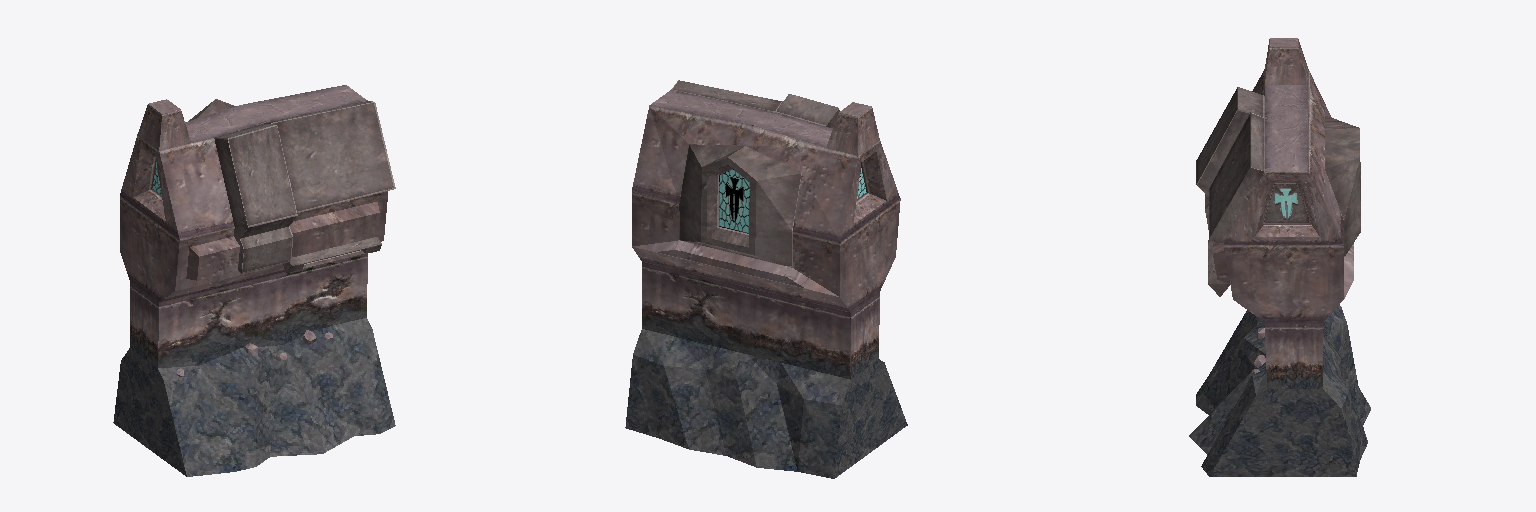
The picture shows the model from 3 angles: view 1: azimuth 30°, elevation 25°; view 2: azimuth 150°, elevation 25°; view 3: azimuth 270°, elevation 25°; orthographic projection.
Parts seen in each view (by area): view 1: Node 0; view 2: Node 0; view 3: Node 0.
Boxes of the visible parts, box(x1,y1,x2,y2) form: Node 0: box(113, 85, 395, 476); Node 0: box(625, 80, 907, 478); Node 0: box(1189, 38, 1370, 476).
Size of the model in its own units: 10 by 15.53 by 7.6.
Materials: 5 (5 with a texture image).